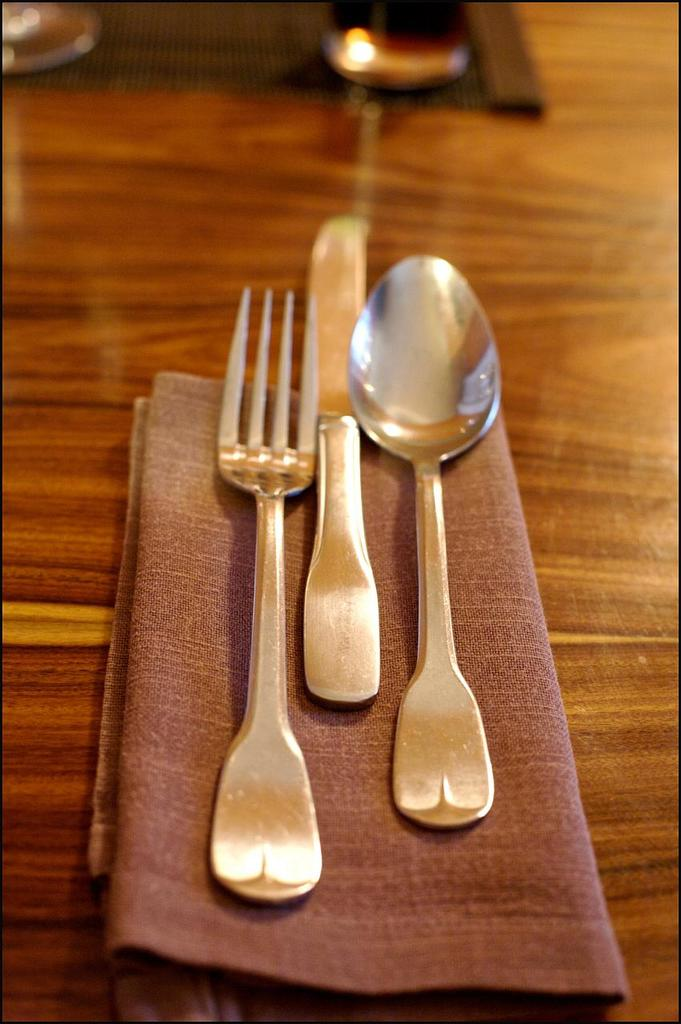fork: (208, 285, 320, 906)
